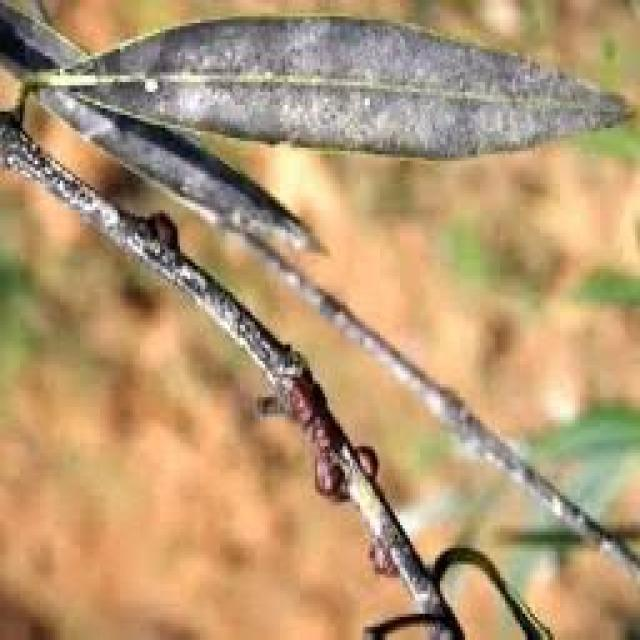BlackScale: (287, 357, 355, 499), (150, 214, 178, 252), (355, 446, 378, 479)
